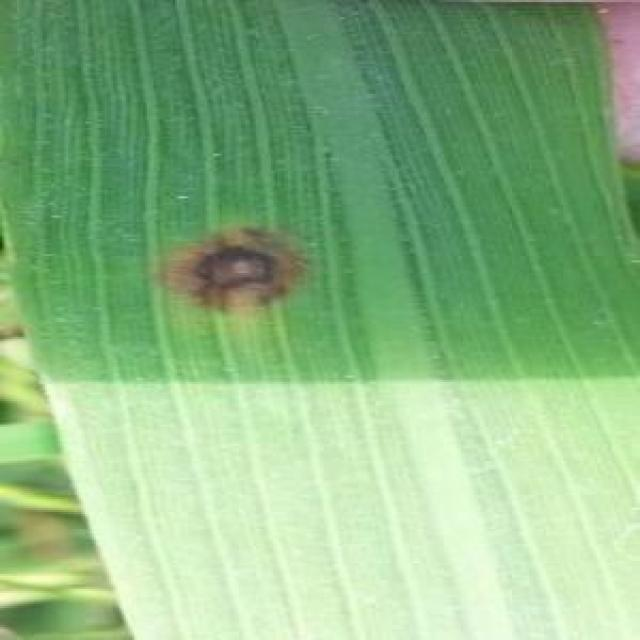brownspots: (156, 214, 314, 318)
